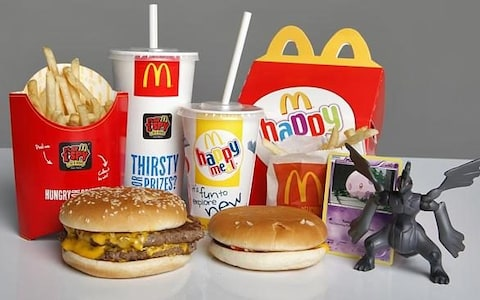mcdonalds: (276, 90, 314, 117), (139, 61, 174, 89)
